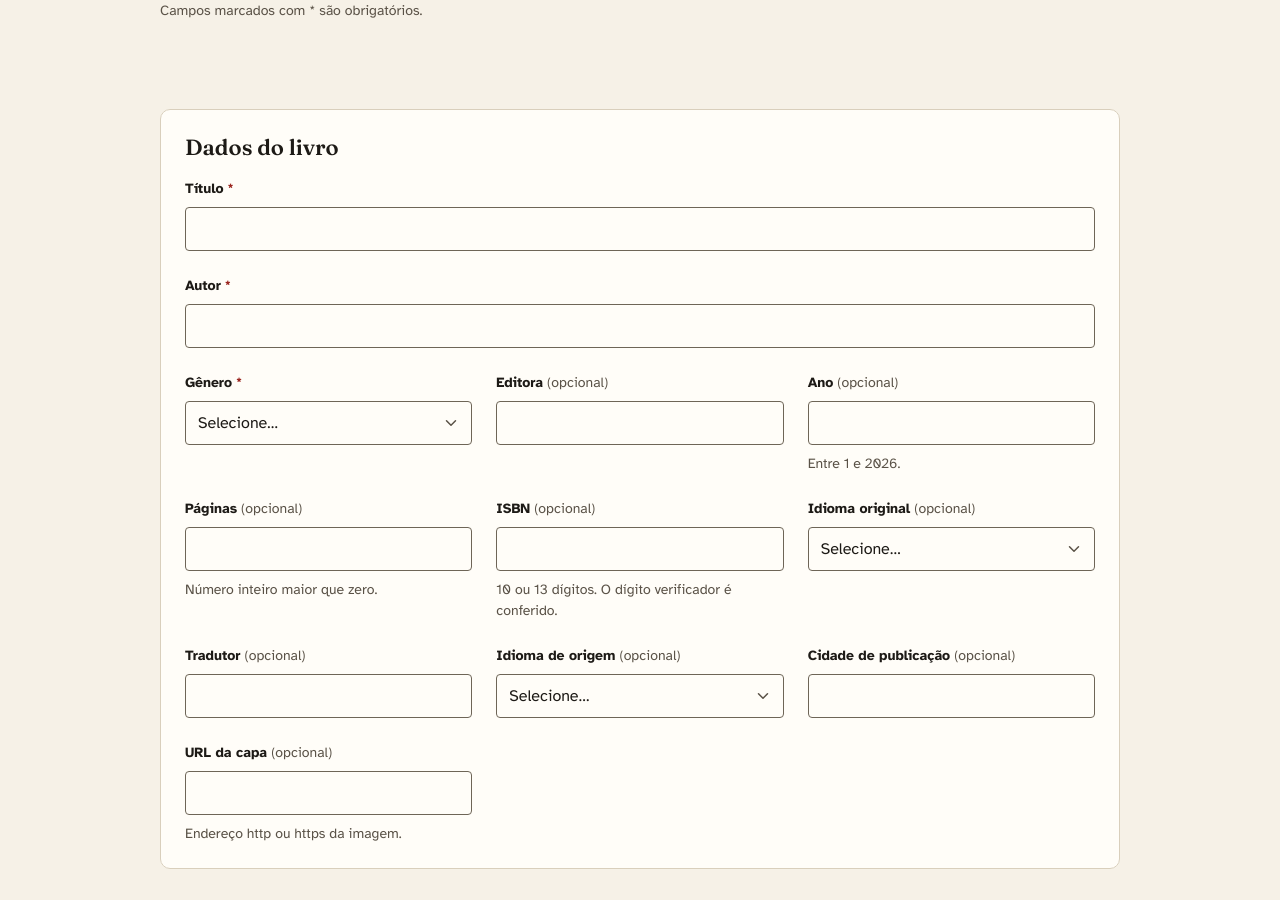
Test case: região de status: polida, presente desde o 1º render › anuncia também a falha VINDA DA ACTION (erro de formulário inteiro)
The image size is (1280, 900).
Type "Dom Casmurro" into the field labelled "Título *" at (640, 228), box [185, 206, 1095, 250]
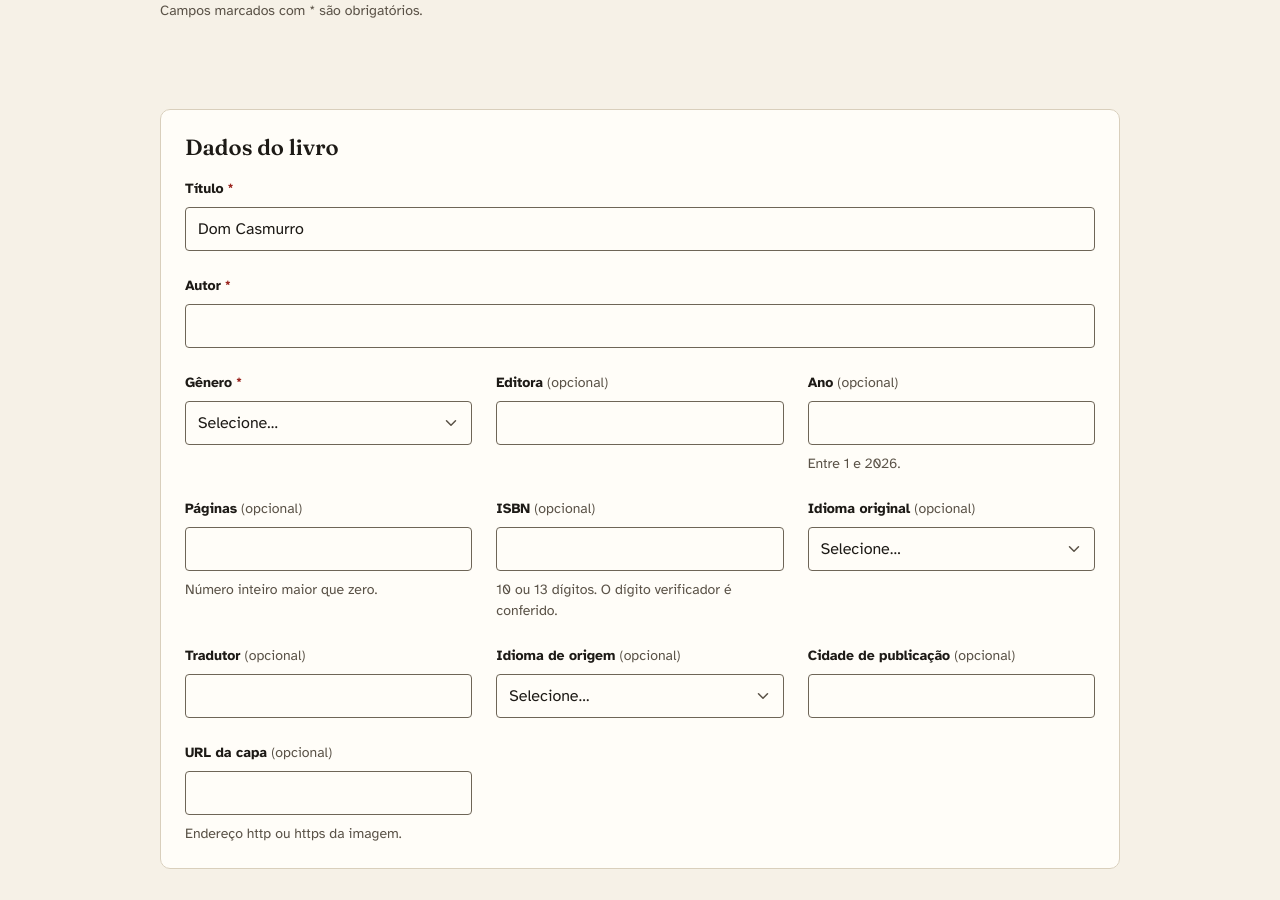
Type "Machado de Assis" into the field labelled "Autor *" at (640, 326), box [185, 304, 1095, 348]
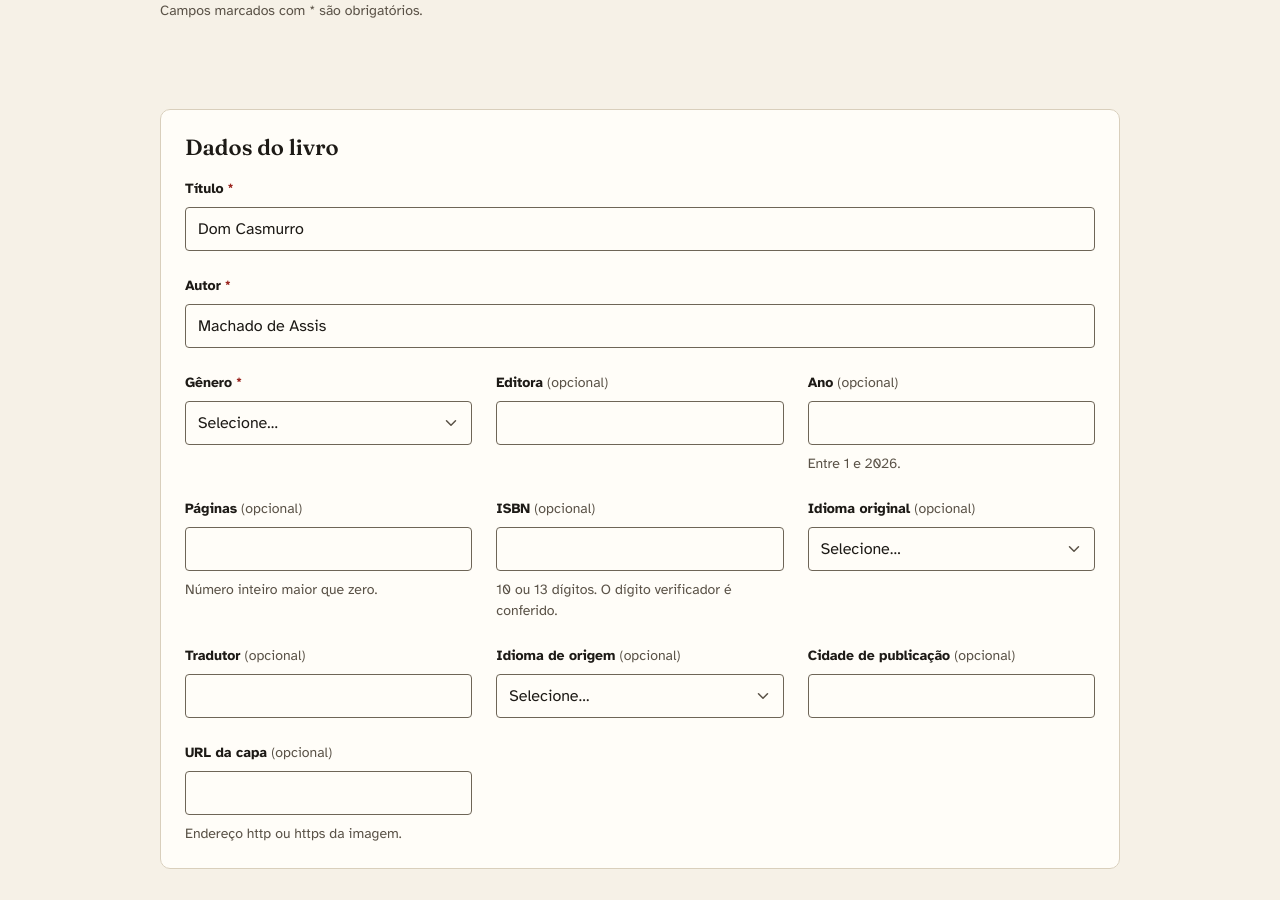
Select "Romance" in the dropdown labelled "Gênero *" at (329, 422), box [185, 400, 472, 444]
(page scrolled)
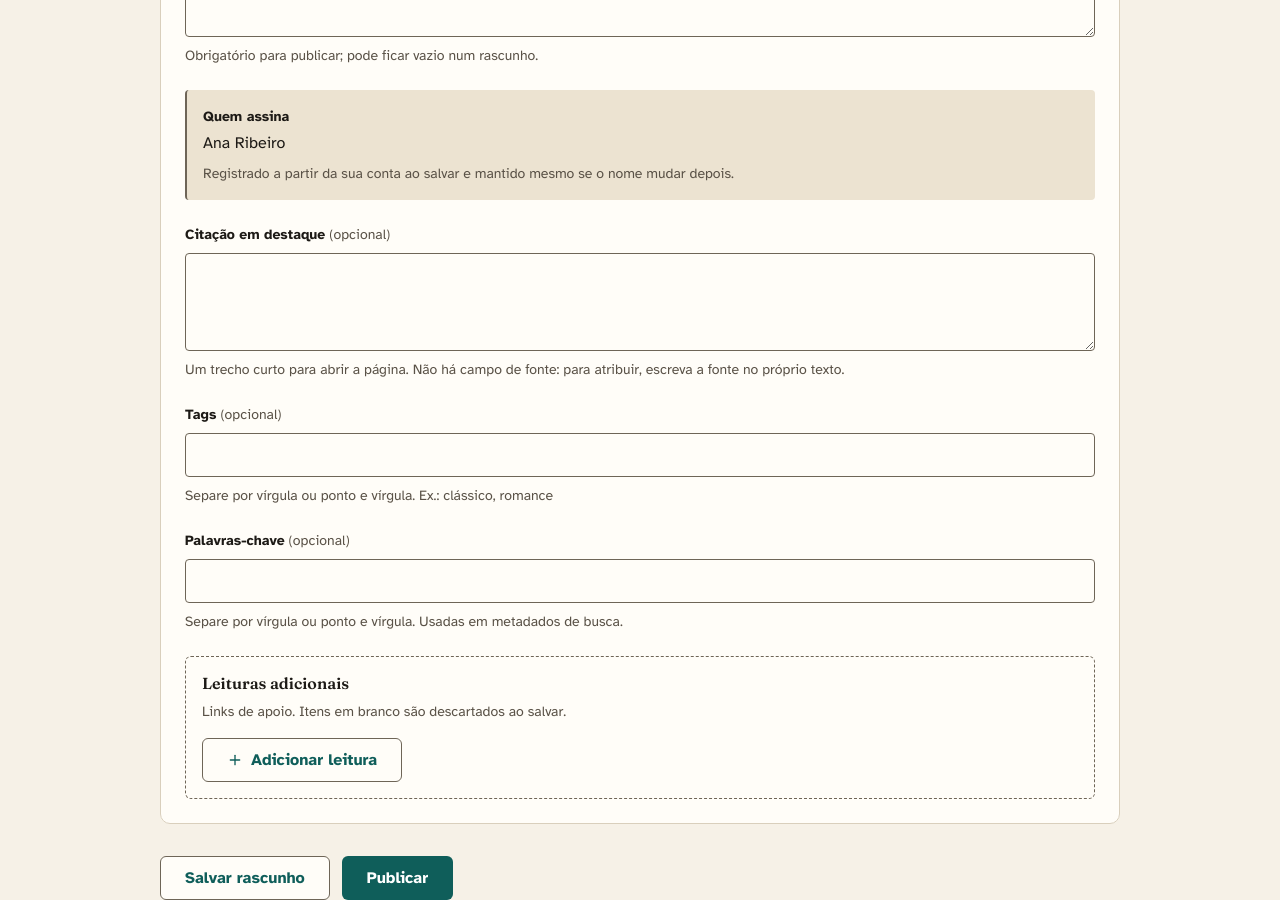
Click the button "Salvar rascunho" at (245, 878), box [160, 856, 330, 899]
(page scrolled)
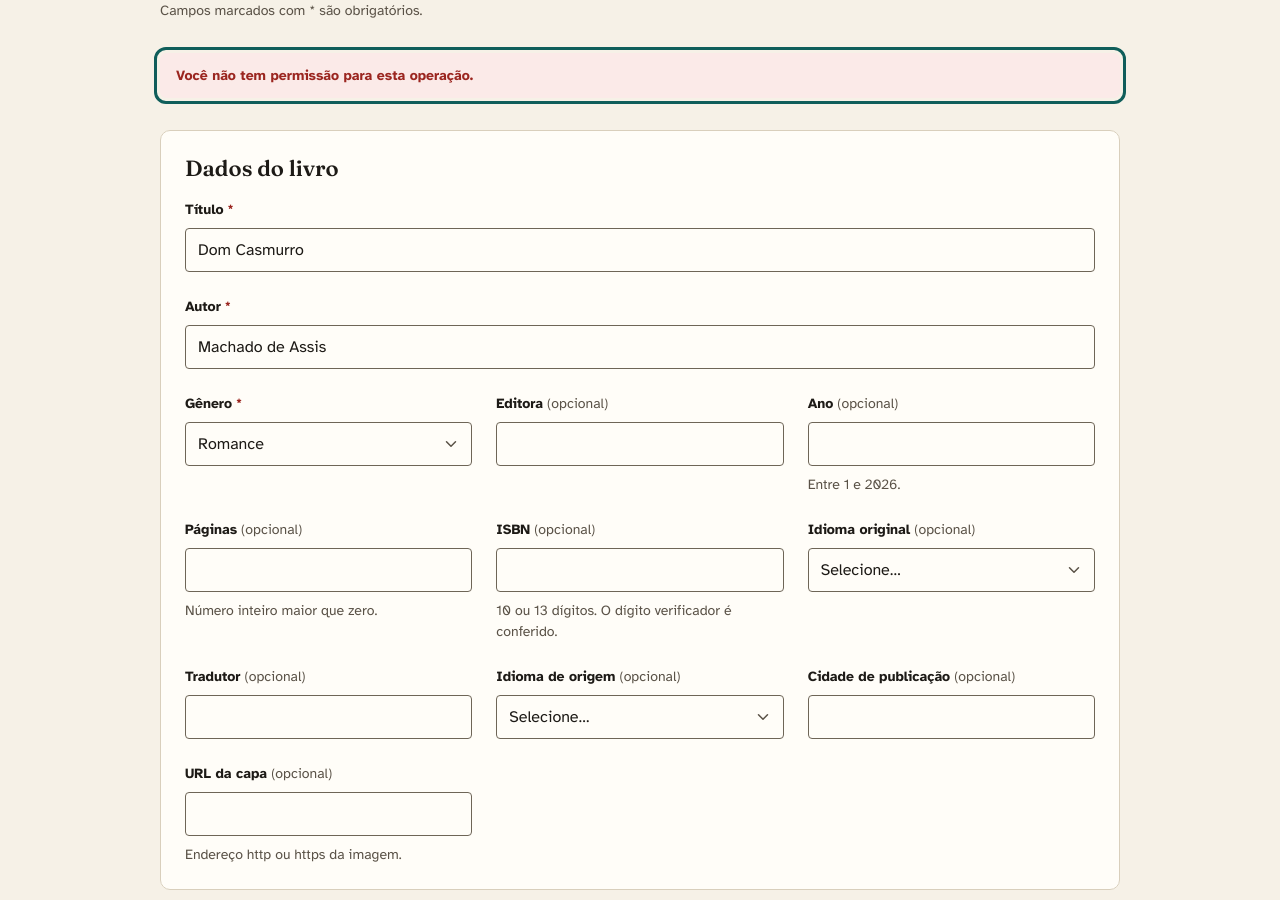
Now the message shows "não tem permissão", box [176, 67, 473, 84]
